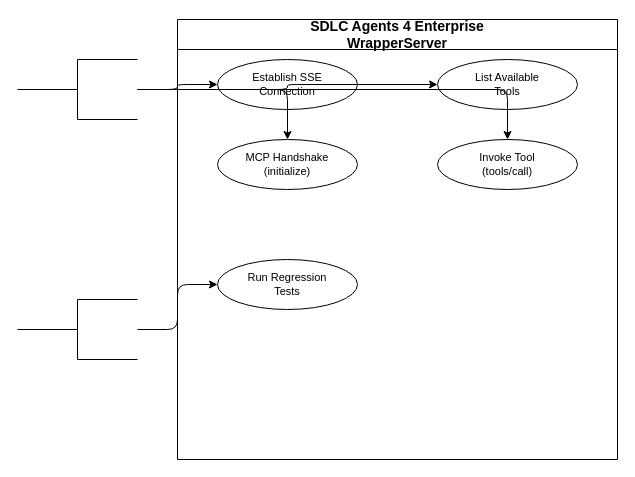
The diagram is 635 pixels wide and 477 high, and some of its shapes have lost their labels. Here are the shapes that lost their labels. From the top down, the centre of each, then its label:
the point at 77,89: OpenCode CLI User
the point at 77,329: Developer
